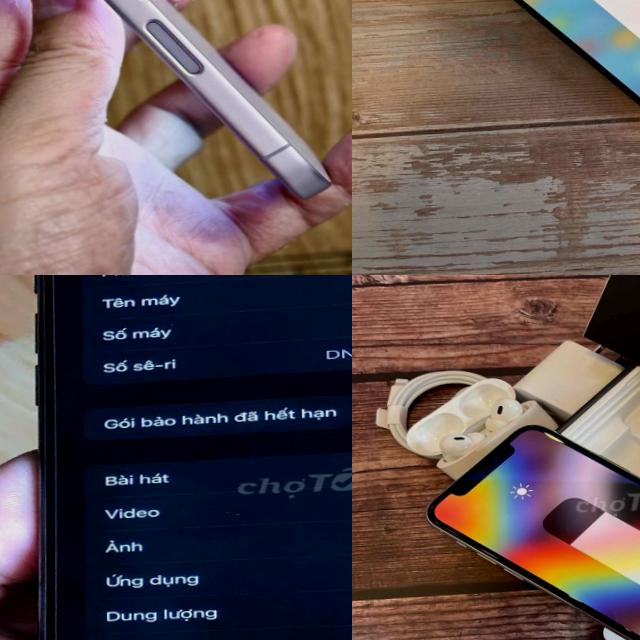gen_11: (413, 408, 640, 640)
gen_14: (440, 0, 640, 135)
gen_17: (103, 0, 329, 197)
gen_x_xs: (27, 275, 352, 640)
